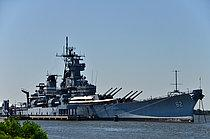MIL_Ship: (15, 36, 202, 122)
